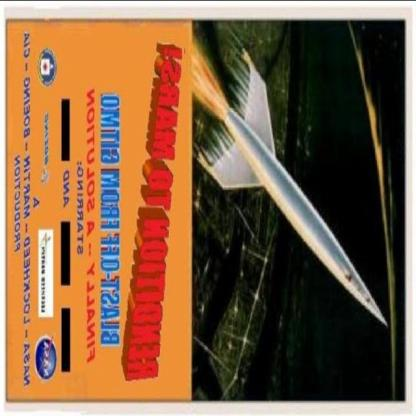MIL_TBM: (266, 148, 390, 328)
